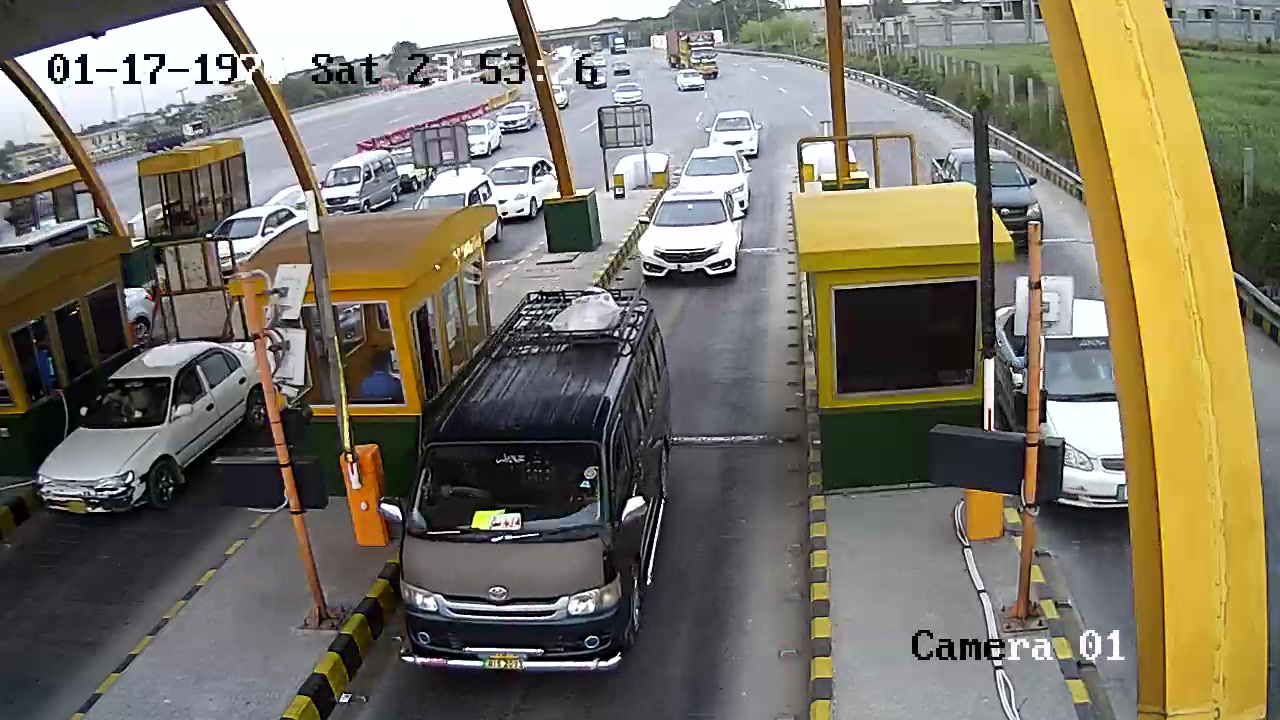F3: (385, 283, 703, 679)
